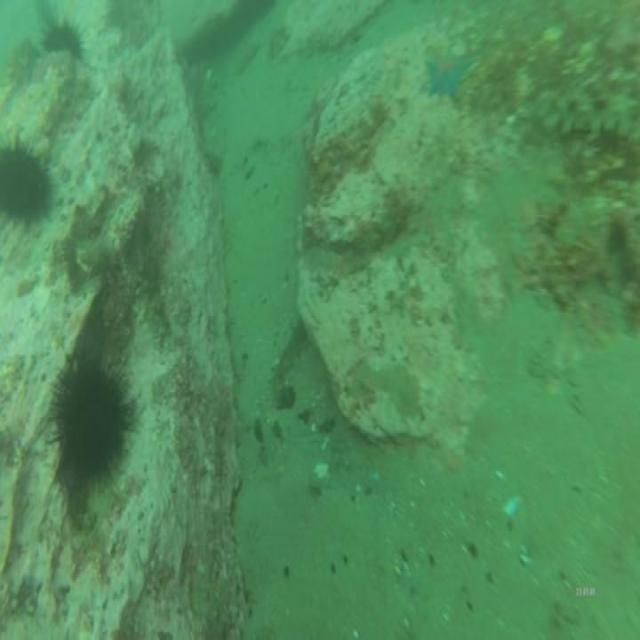echinus: (35, 333, 145, 517), (0, 130, 60, 224), (39, 12, 89, 64)
holothurian: (527, 87, 636, 145)
starfish: (422, 39, 475, 106)
